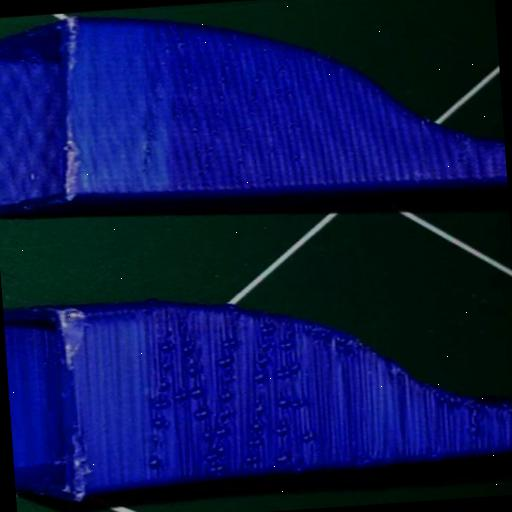blobs: (148, 416, 176, 432), (148, 398, 176, 414), (192, 404, 218, 419), (217, 336, 242, 351), (240, 451, 266, 464), (200, 450, 224, 464), (213, 352, 236, 366), (256, 354, 278, 368), (248, 418, 270, 432), (184, 388, 206, 402), (285, 358, 303, 374), (274, 452, 292, 468), (219, 389, 241, 402), (256, 338, 276, 352), (300, 430, 319, 444), (156, 358, 175, 372), (147, 434, 169, 446), (213, 425, 233, 438), (250, 402, 268, 416), (270, 424, 290, 436), (206, 463, 224, 476), (290, 397, 306, 411), (262, 323, 278, 337), (158, 377, 174, 391), (213, 442, 231, 454), (186, 365, 204, 377), (143, 457, 161, 468), (158, 341, 172, 355), (249, 436, 266, 447), (280, 340, 298, 350), (256, 371, 270, 383), (275, 396, 290, 407), (186, 367, 204, 376), (177, 392, 192, 402)
